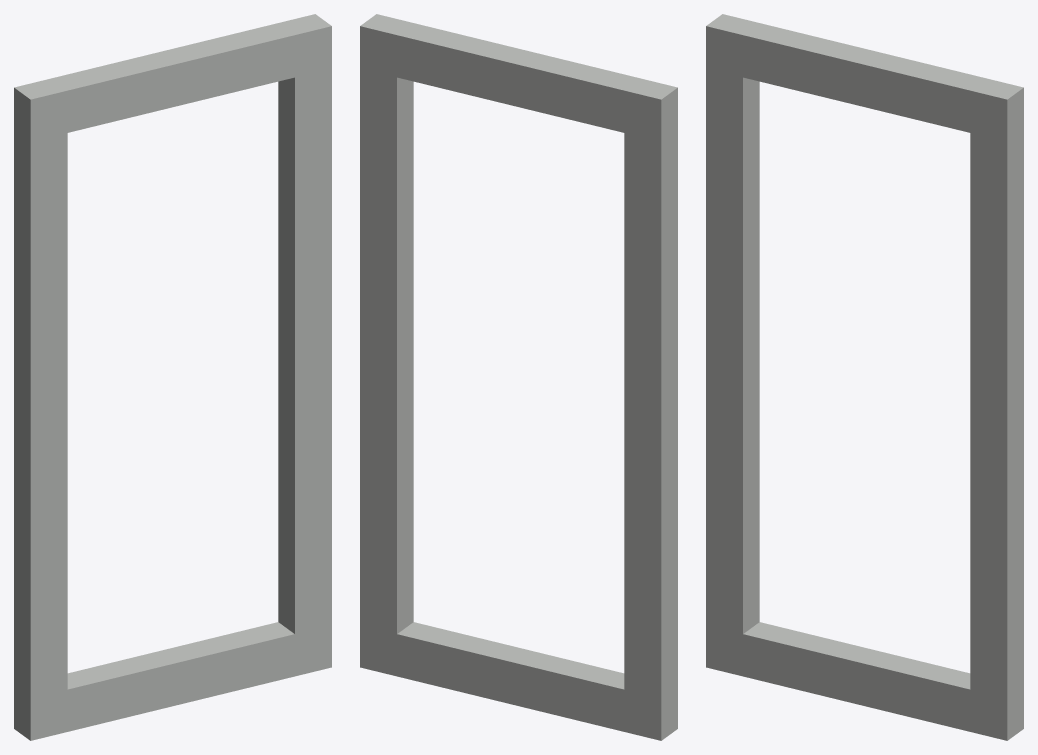
File: door_metal_window.fbx
3 renders of one model, left to right at view 1: azimuth 30°, elevation 25°; view 2: azimuth 150°, elevation 25°; view 3: azimuth 330°, elevation 25°, orthographic.
Visible parts, largest first — view 1: door_metal_window; view 2: door_metal_window; view 3: door_metal_window.
Boxes of the visible parts, left/top/right/bottom form: door_metal_window: left=14, top=14, right=331, bottom=740; door_metal_window: left=360, top=14, right=677, bottom=740; door_metal_window: left=706, top=14, right=1023, bottom=740.
Size of the model in its own units: 2.55 by 5.2 by 0.2433.
